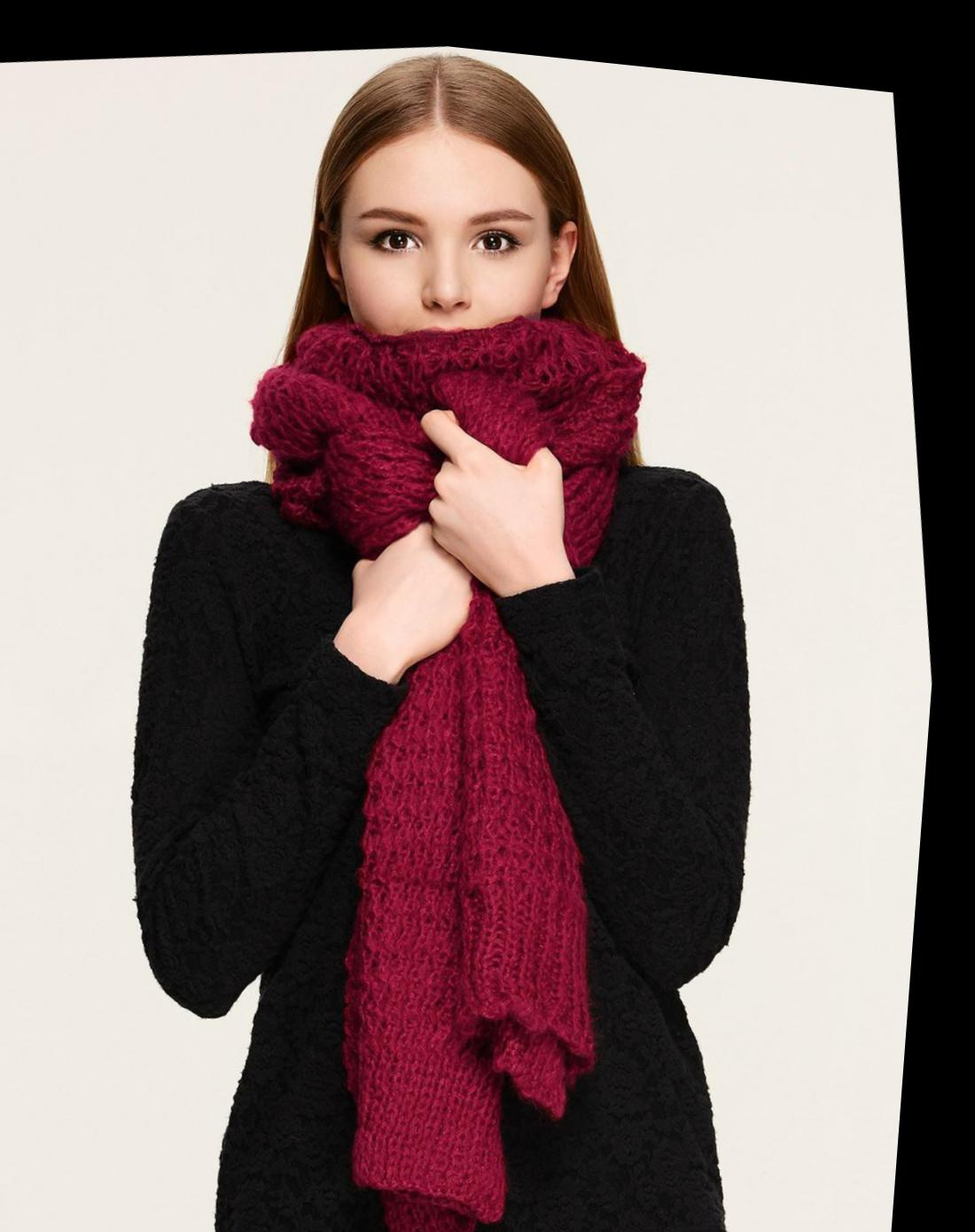WRONG: (332, 164, 569, 407)
